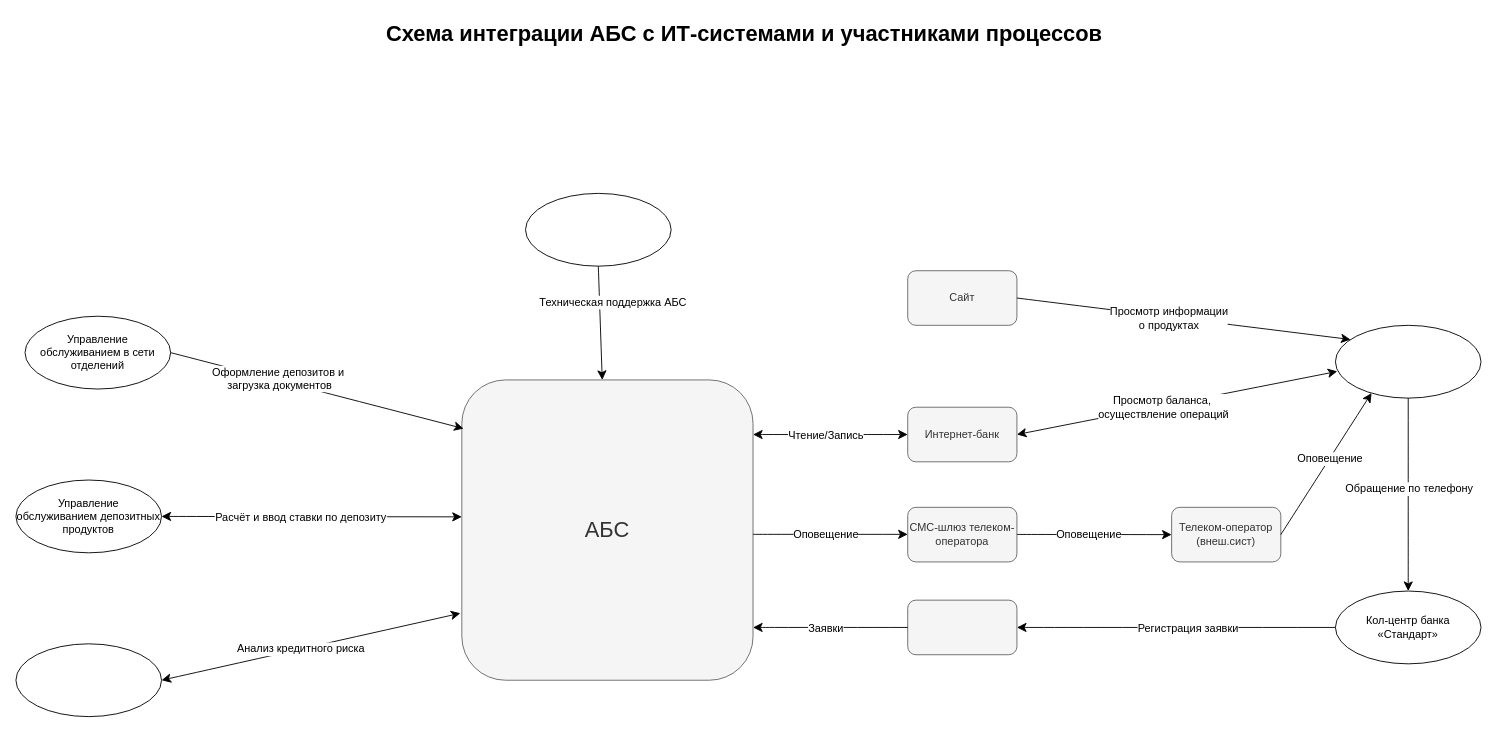
The diagram is 1497 pixels wide and 733 high, and some of its shapes have lost their labels. Here are the shapes that lost their labels. From the top down, the centre of each, then its label:
the point at 598,229: Управление IT
the point at 1408,361: Клиенты банка
the point at 962,627: Система кол-центра
the point at 88,680: Управление обслуживанием кредитных продуктов
